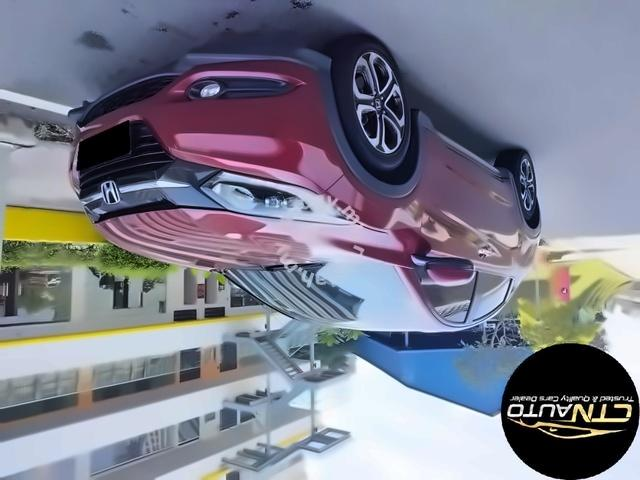Car hood: (91, 208, 386, 271)
Driver-s door - -F-R-: (423, 124, 492, 334)
Fender - -F-R-: (322, 118, 430, 273)
Fender - -R-R-: (520, 210, 544, 282)
Front bumper: (50, 53, 349, 191)
Headlight - -R-: (196, 167, 360, 228)
Passenger-s door - -R-R-: (475, 159, 524, 334)
Side bumper - -R-: (406, 104, 518, 188)
Side mirror - -R-: (406, 249, 477, 295)
